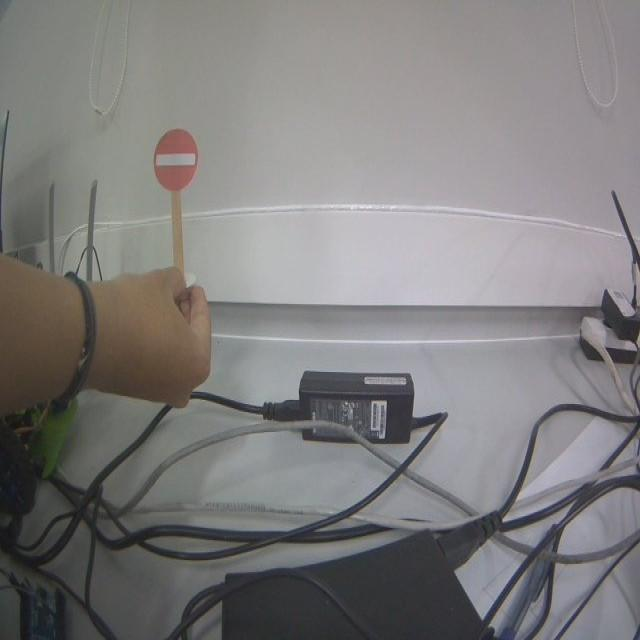Dilarang Masuk: (152, 128, 198, 191)
